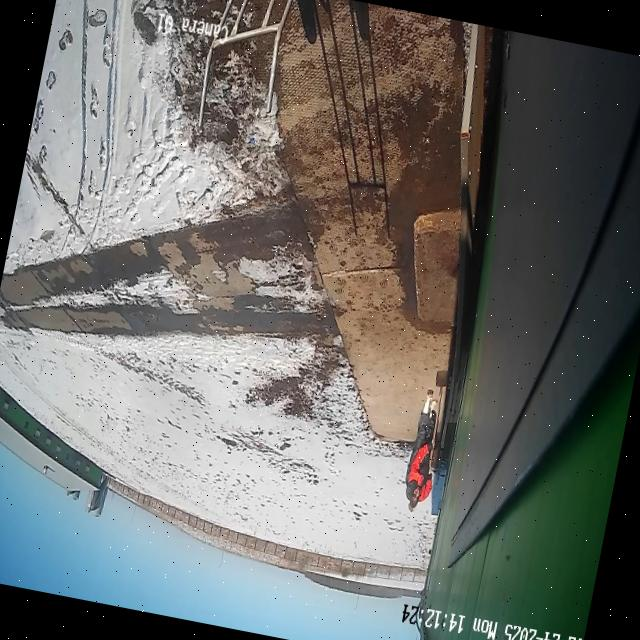Red uniform: (406, 391, 437, 512)
